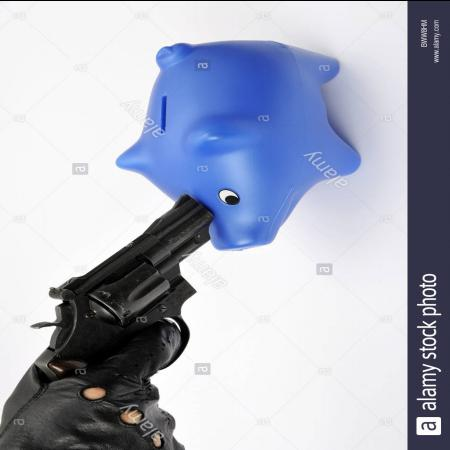Pistol: (29, 188, 220, 420)
